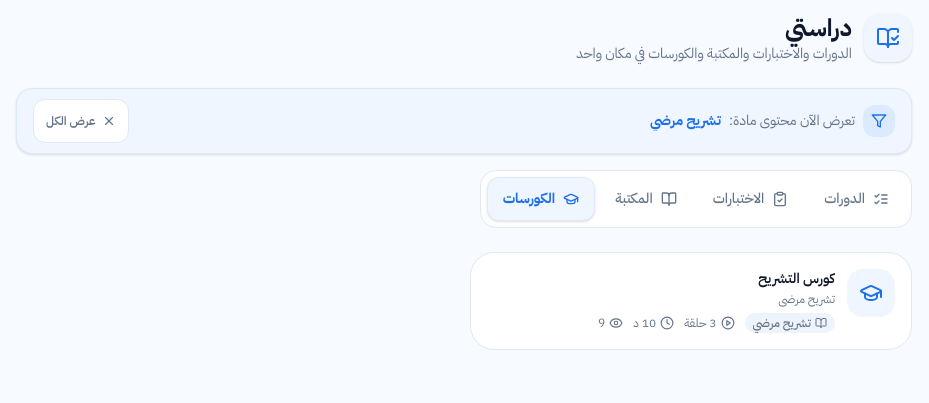
My Studies — subjectId query-param filtering › switching tabs preserves the subject filter
The image size is (929, 403).
Expected: the text "كورس التشريح" is shown, [758,268,835,289]
Click the tab "الدورات": x=857, y=199 [808,177,905,221]
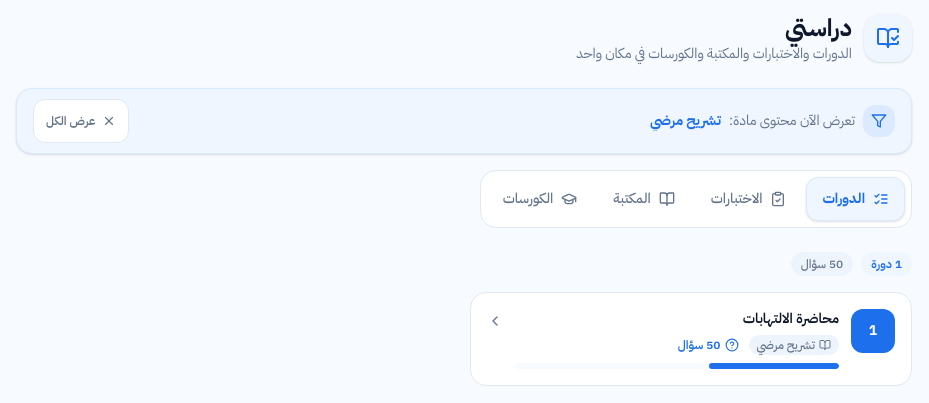
Result: the element with test id "practice-grid" is shown at [470,292,912,386]
Result: the text "محاضرة الالتهابات" is shown at [743,308,839,329]
